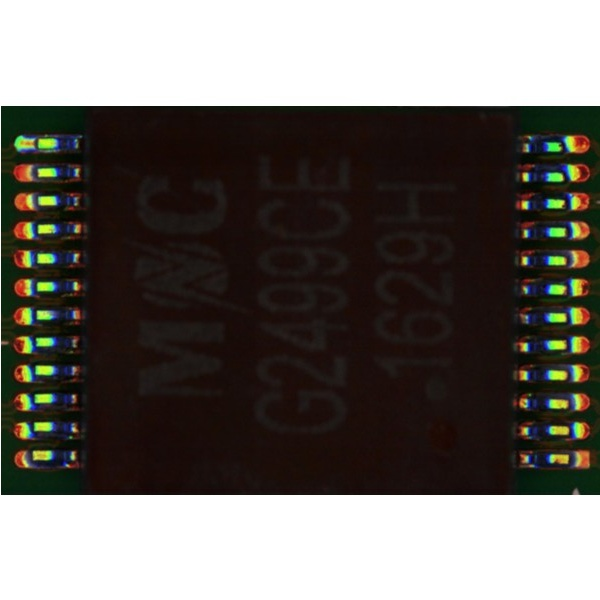Bad_podu: (23, 138, 40, 147)
